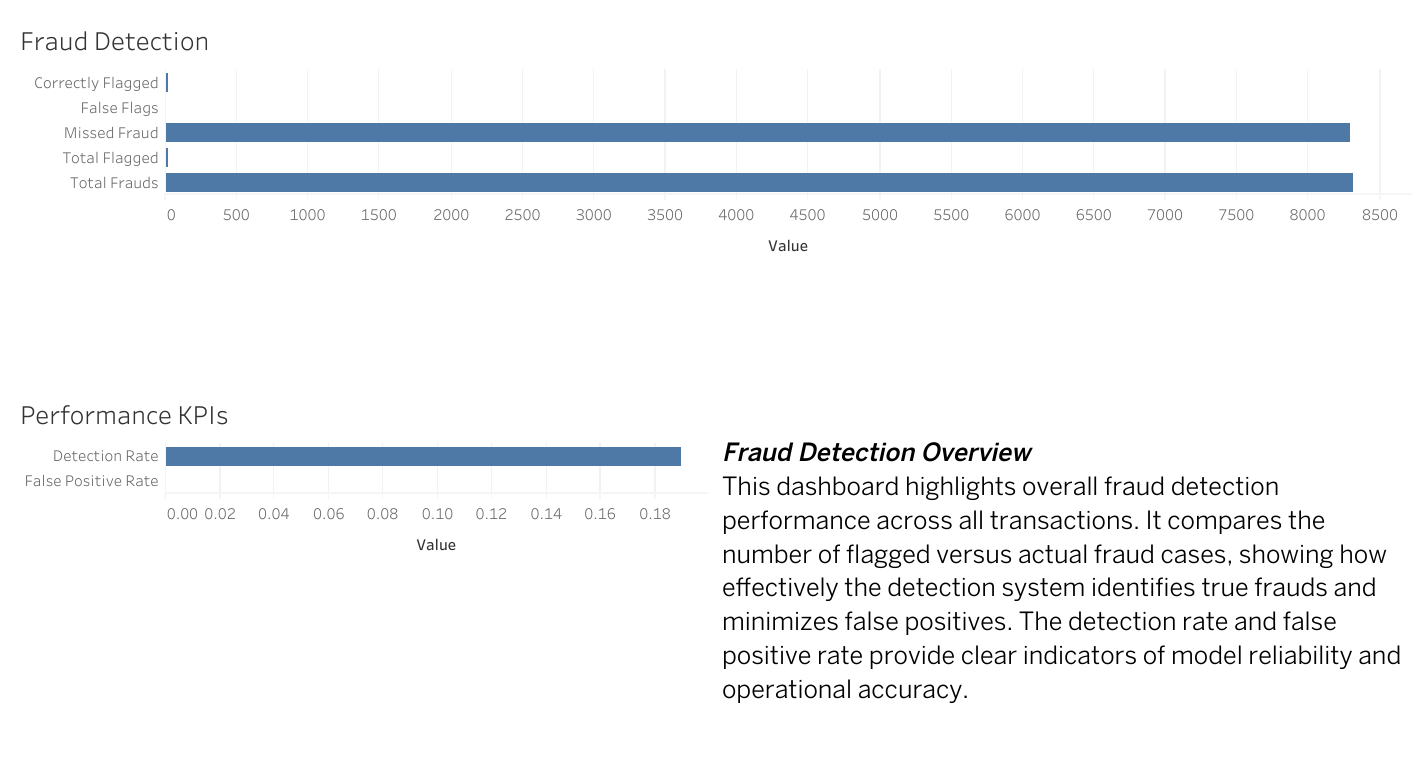

Layout of this report page (visuals, bound fields, positions):
{"tool":"tableau","page":{"name":"Fraud Dectection Overview","canvas":[1000,1000],"units":"permille","ordinal":1},"visuals":[{"type":"worksheet","title":"Fraud Detection ","mark":"Automatic","box":[4.8,10,990.3,490]},{"type":"worksheet","title":"Performance KPIs","mark":"Automatic","box":[4.8,500,495.2,490]},{"type":"text","box":[500,500,495.2,490]}]}

Visuals, with their boxes on the dashboard's canvas, which has no fixed pixel size, in thousandths of its width and height (x1, y1, x2, y2). These are canvas units, not pixel positions in the 1425x768 screenshot, which may show the page scaled, cropped or inside an application window:
"Fraud Detection " worksheet: crop(5, 10, 995, 500)
"Performance KPIs" worksheet: crop(5, 500, 500, 990)
text: crop(500, 500, 995, 990)
